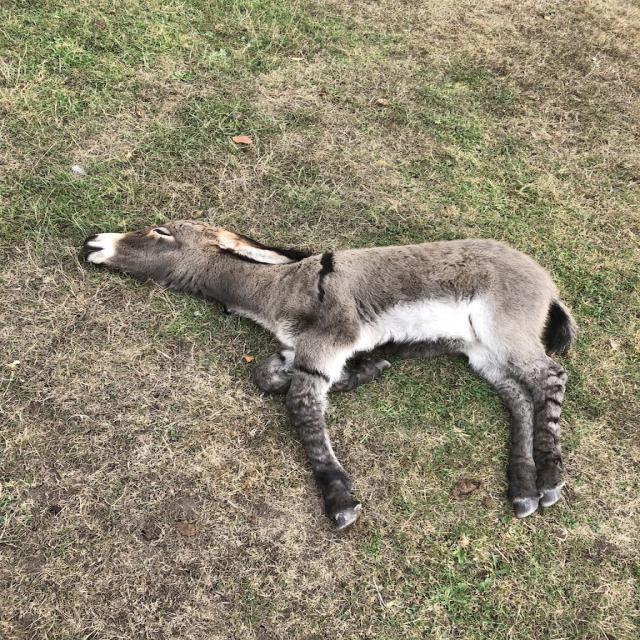Donkey: (78, 218, 578, 532)
